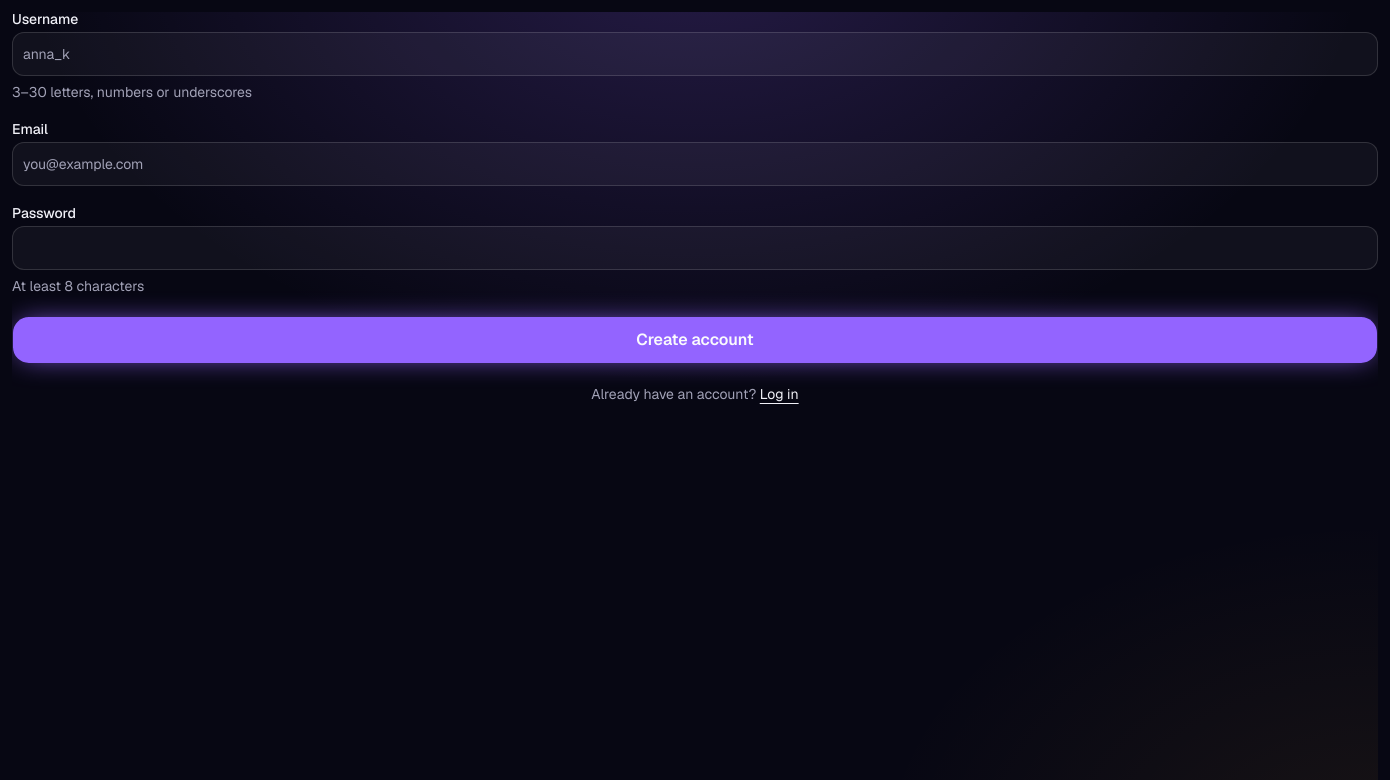
Test case: RegisterForm › checks username, email and password before contacting the server
Type "a b" into the field labelled "Username" at (695, 54), box [12,32,1378,76]
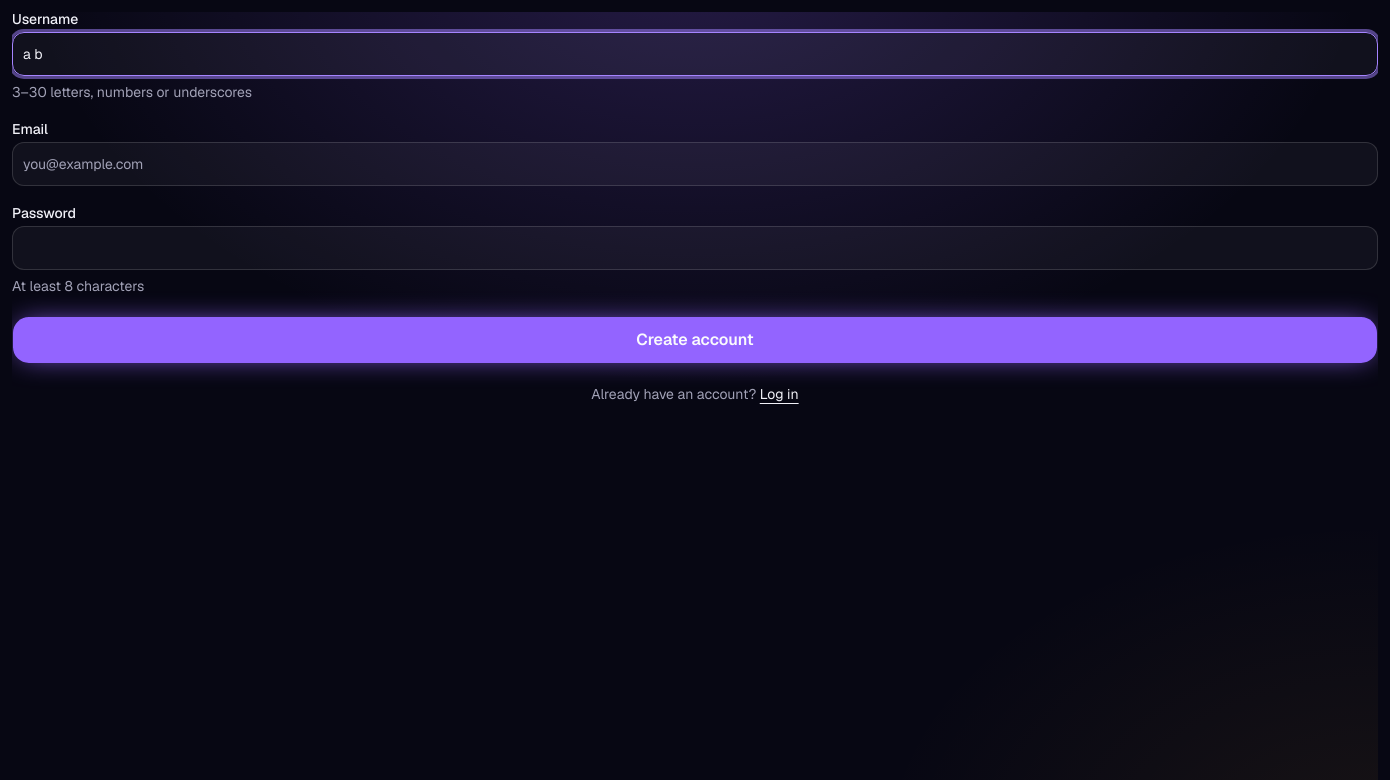
Type "nope" into the field labelled "Email" at (695, 164), box [12,142,1378,186]
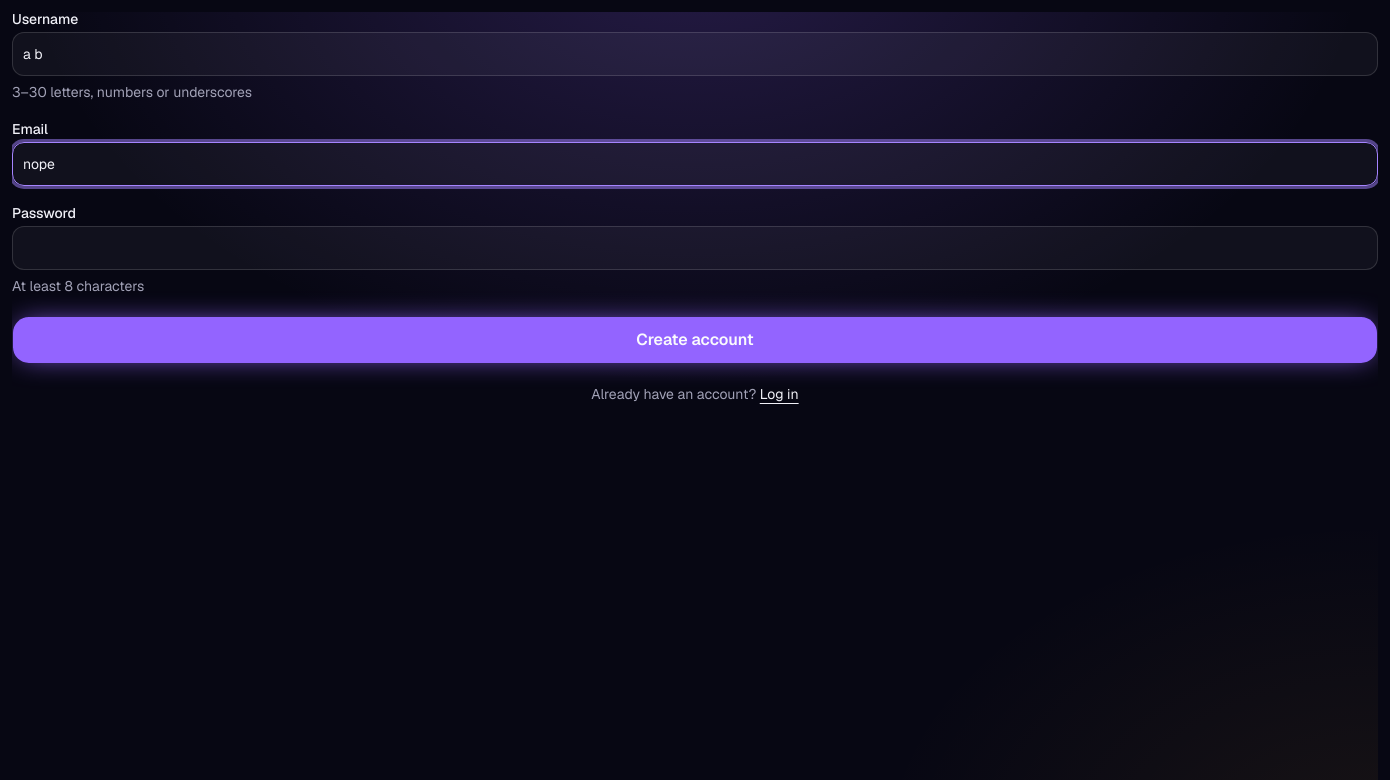
Type "short" into the password field labelled "Password" at (695, 248), box [12,226,1378,270]
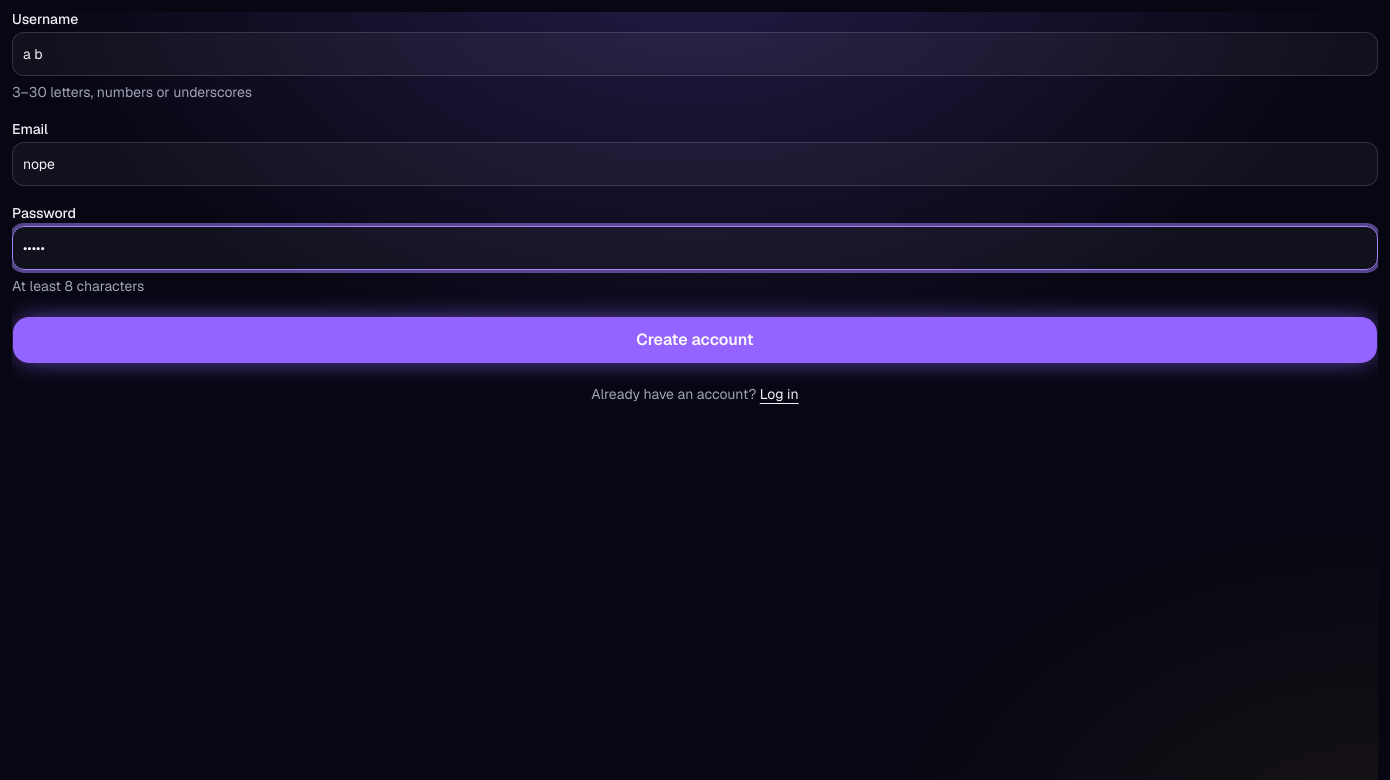
Click the button "Create account" at (695, 340), box [12,316,1378,364]
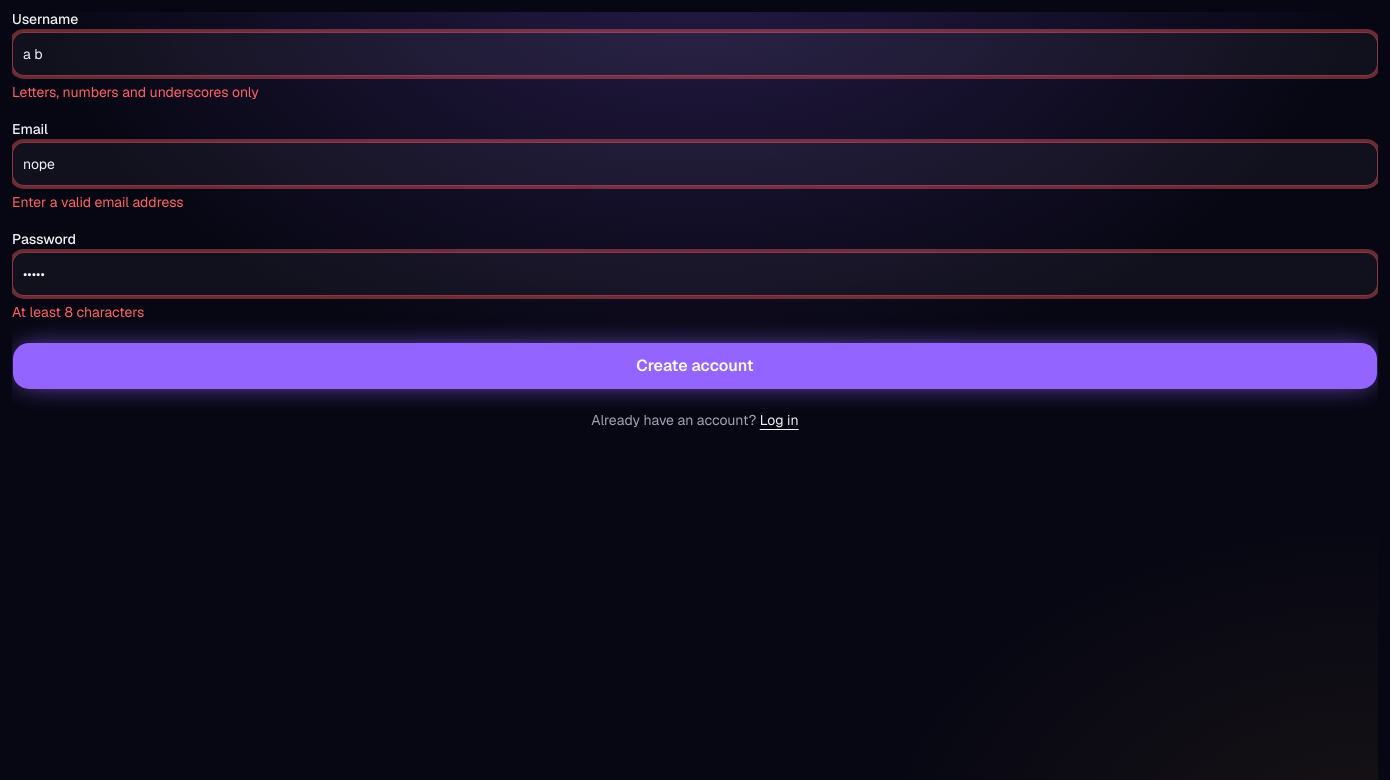
Check: the text "At least 8 characters" is shown, box [12,303,144,321]
Check: the text "Letters, numbers and underscores only" is shown, box [12,83,259,101]
Check: the text "Enter a valid email address" is shown, box [12,193,184,211]
